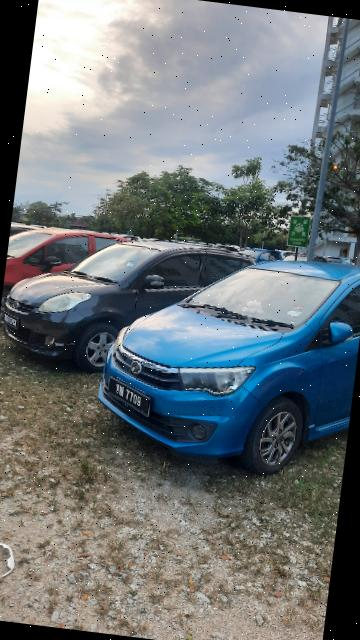License_Plate: (105, 374, 159, 422), (1, 308, 21, 331)
car: (92, 238, 360, 489), (1, 228, 263, 391)
